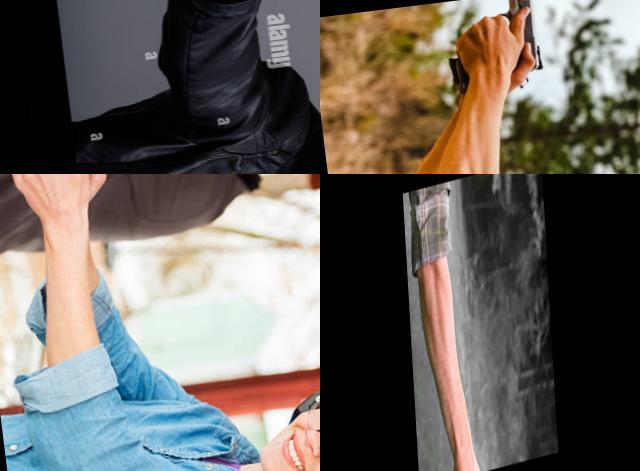handgun: (161, 0, 317, 84), (437, 0, 548, 98), (30, 174, 132, 213)
